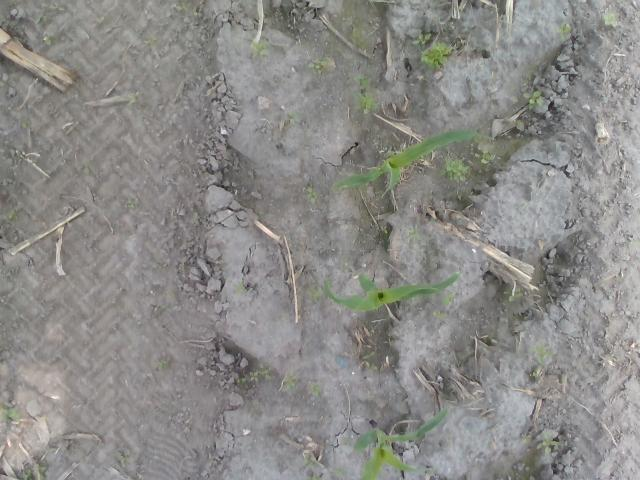Maize: (332, 130, 495, 200), (352, 406, 453, 479), (321, 270, 461, 313)
Weeds: (352, 74, 382, 116), (419, 42, 452, 66), (440, 158, 470, 184), (240, 365, 272, 388), (526, 437, 564, 454), (170, 2, 205, 19), (20, 461, 49, 480), (302, 455, 324, 480), (532, 344, 556, 366), (251, 41, 271, 61), (554, 22, 572, 42), (524, 90, 545, 107), (308, 60, 328, 75), (282, 373, 296, 393), (404, 227, 418, 246), (364, 351, 378, 370), (602, 13, 618, 29), (154, 358, 170, 374), (475, 150, 493, 164), (306, 286, 324, 300), (413, 34, 432, 47), (307, 186, 319, 206), (1, 409, 19, 422), (34, 14, 46, 33), (114, 452, 130, 466), (80, 158, 96, 172), (281, 112, 298, 125), (5, 206, 18, 222), (505, 288, 522, 300), (307, 381, 320, 395), (42, 30, 55, 44), (442, 294, 456, 307), (126, 93, 141, 105), (124, 199, 138, 210), (233, 281, 245, 292), (379, 224, 390, 235), (530, 368, 542, 378), (20, 120, 32, 129), (149, 34, 158, 42)
